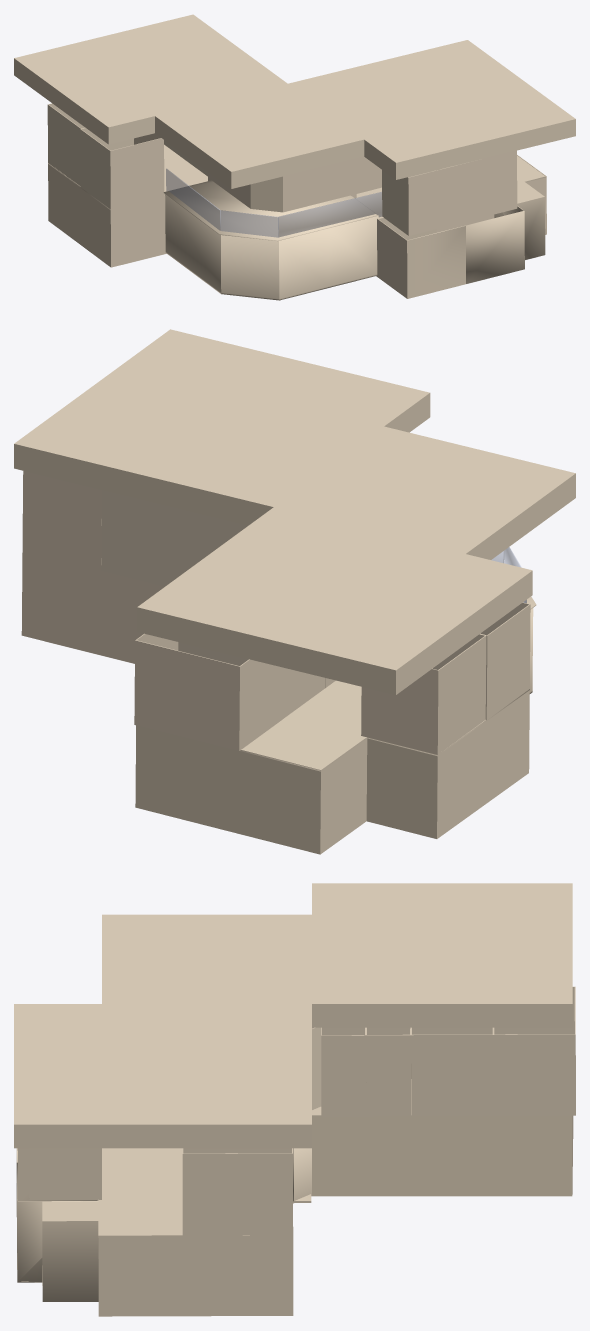
Rendered from Nangaku2.gltf.
3 renders of one model, top to bottom at view 1: azimuth 30°, elevation 25°; view 2: azimuth 150°, elevation 25°; view 3: azimuth 270°, elevation 25°, orthographic. The views are drawn at different scales.
Visible parts, largest first — view 1: Roof, floorOne, floorOne.001, floorOne.002, floorTwo.023, floorTwo.011, floorTwo.010, floorTwo.021, floorTwo.000, floorTwo.008, floorTwo.006, floorTwo.002 (+5 smaller); view 2: Roof, floorOne.002, floorTwo.016, floorOne.001, floorTwo.006, floorTwo.002, floorTwo.005, floorTwo.001, floorTwo.011, floorTwo.013, floorTwo.022; view 3: Roof, floorOne.001, floorOne.002, floorTwo.005, floorTwo.016, floorTwo.022, floorTwo.004, floorTwo.018, floorTwo.014, floorTwo.000, floorOne, floorTwo.012.
Boxes of the visible parts, x1,y1,x2,y2 form: Roof: (14,14,575,188); floorOne: (164,194,378,300); floorOne.001: (376,155,546,298); floorOne.002: (48,164,166,267); floorTwo.023: (163,180,377,241); floorTwo.011: (80,128,164,209); floorTwo.010: (382,164,462,235); floorTwo.021: (266,159,356,212); floorTwo.000: (462,150,517,222); floorTwo.008: (278,192,382,237); floorTwo.006: (47,103,85,186); floorTwo.002: (48,144,207,209); Roof: (14,329,575,694); floorOne.002: (135,690,529,854); floorTwo.016: (134,633,282,750); floorOne.001: (21,551,163,663); floorTwo.006: (361,634,486,754); floorTwo.002: (240,680,529,771); floorTwo.005: (22,471,101,570); floorTwo.001: (101,490,180,586); floorTwo.011: (480,602,530,720); floorTwo.013: (179,509,247,575); floorTwo.022: (282,667,325,719); Roof: (14,883,572,1148); floorOne.001: (16,1148,293,1316); floorOne.002: (293,1115,573,1203); floorTwo.005: (182,1148,293,1235); floorTwo.016: (493,986,575,1115); floorTwo.022: (411,1027,493,1115); floorTwo.004: (99,1148,182,1235); floorTwo.018: (321,1027,366,1116); floorTwo.014: (366,1027,410,1116); floorTwo.000: (29,1148,101,1199); floorOne: (293,1148,311,1202); floorTwo.012: (312,1027,321,1109).
Bounding box in the file's own units: 1.61 × 0.6013 × 1.58.
